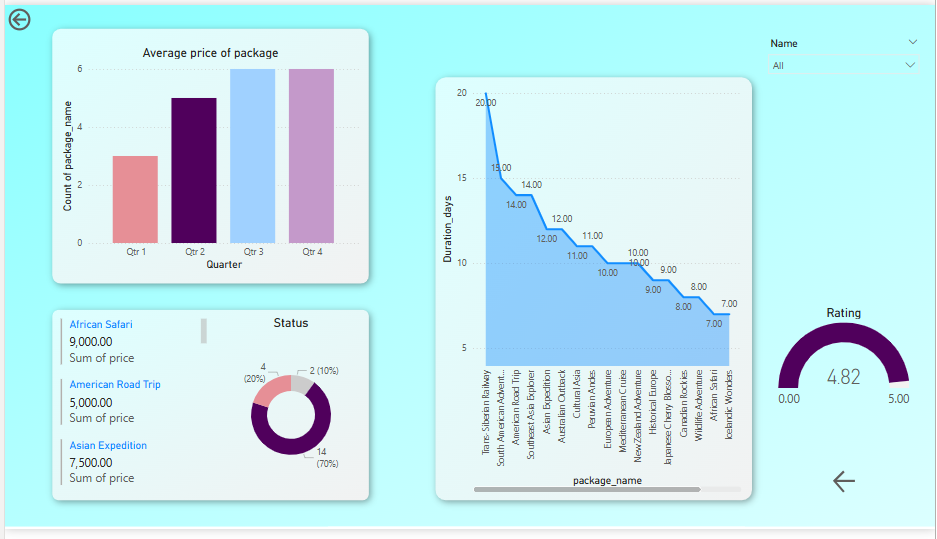

Layout of this report page (visuals, bound fields, positions):
{"tool":"powerbi","page":{"name":"tour packages ","canvas":[1280,720],"ordinal":1},"visuals":[{"type":"columnChart","title":"Average price of package ","fields":{"Category":["tourism_db hotelreservations.check_in_date.Variation.Date Hierarchy.Quarter"],"Y":["CountNonNull(tourism_db tourpackages.package_name)"]},"box":[72.3,55.6,419.8,315.5],"z":0},{"type":"slicer","fields":{"Values":["tourism_db tourists.name"]},"box":[1041.1,40.3,228,66.7],"z":1000},{"type":"multiRowCard","fields":{"Values":["tourism_db tourpackages.package_name","Sum(tourism_db tourpackages.price)"]},"box":[71.6,427,210.8,248.6],"z":2000},{"type":"actionButton","box":[1135.6,635.2,100.1,40.3],"z":3000},{"type":"donutChart","title":"Status ","fields":{"Category":["tourism_db bookings.status","tourism_db hotelreservations.check_in_date"],"Y":["CountNonNull(tourism_db tourpackages.package_name)"]},"box":[294.5,426.7,198.2,256],"z":4000},{"type":"areaChart","title":" duration_days ","fields":{"Category":["tourism_db tourpackages.package_name"],"Y":["Avg(tourism_db tourpackages.duration_days)"]},"box":[596.3,107,422.5,568.5],"z":5000},{"type":"gauge","title":" Rating","fields":{"Y":["Avg(tourism_db hotels.rating)"]},"box":[1041.1,412.8,228,150.1],"z":6000},{"type":"actionButton","box":[0,0,100,40],"z":7000}]}

Visuals, with their boxes in screenshot pixels (x1, y1, x2, y2), scaled from the page's 1280x720 canvas onto the 937x539 screenshot:
"Average price of package " columnChart: (x1=53, y1=42, x2=360, y2=278)
slicer - tourism_db tourists.name: (x1=762, y1=30, x2=929, y2=80)
multiRowCard - tourism_db tourpackages.package_name x Sum(tourism_db tourpackages.price): (x1=52, y1=320, x2=207, y2=506)
actionButton: (x1=831, y1=476, x2=905, y2=506)
"Status " donutChart: (x1=216, y1=319, x2=361, y2=511)
" duration_days " areaChart: (x1=437, y1=80, x2=746, y2=506)
" Rating" gauge: (x1=762, y1=309, x2=929, y2=421)
actionButton: (x1=0, y1=0, x2=73, y2=30)
